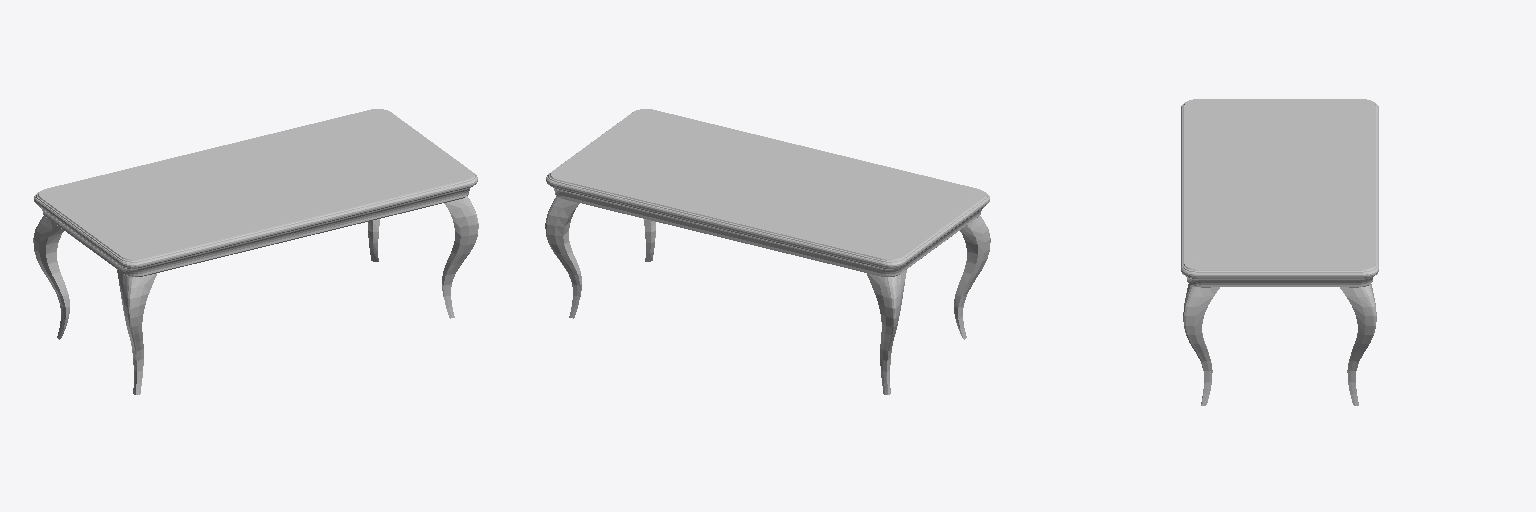
Rendered from Vintage_Furniture_Coffee_Table_OBJ2.obj.
The picture shows the model from 3 angles: view 1: azimuth 30°, elevation 25°; view 2: azimuth 150°, elevation 25°; view 3: azimuth 270°, elevation 25°; orthographic projection.
Parts seen in each view (by area): view 1: Vintage_Furniture_Coffee_Table_OBJ:Vintage_Furniture_Coffee_Tabl; view 2: Vintage_Furniture_Coffee_Table_OBJ:Vintage_Furniture_Coffee_Tabl; view 3: Vintage_Furniture_Coffee_Table_OBJ:Vintage_Furniture_Coffee_Tabl.
Boxes of the visible parts, <box> form: Vintage_Furniture_Coffee_Table_OBJ:Vintage_Furniture_Coffee_Tabl: <box>33,109,478,394</box>; Vintage_Furniture_Coffee_Table_OBJ:Vintage_Furniture_Coffee_Tabl: <box>545,109,990,394</box>; Vintage_Furniture_Coffee_Table_OBJ:Vintage_Furniture_Coffee_Tabl: <box>1181,99,1378,405</box>.
Size of the model in its own units: 1.61 by 0.6194 by 0.7763.